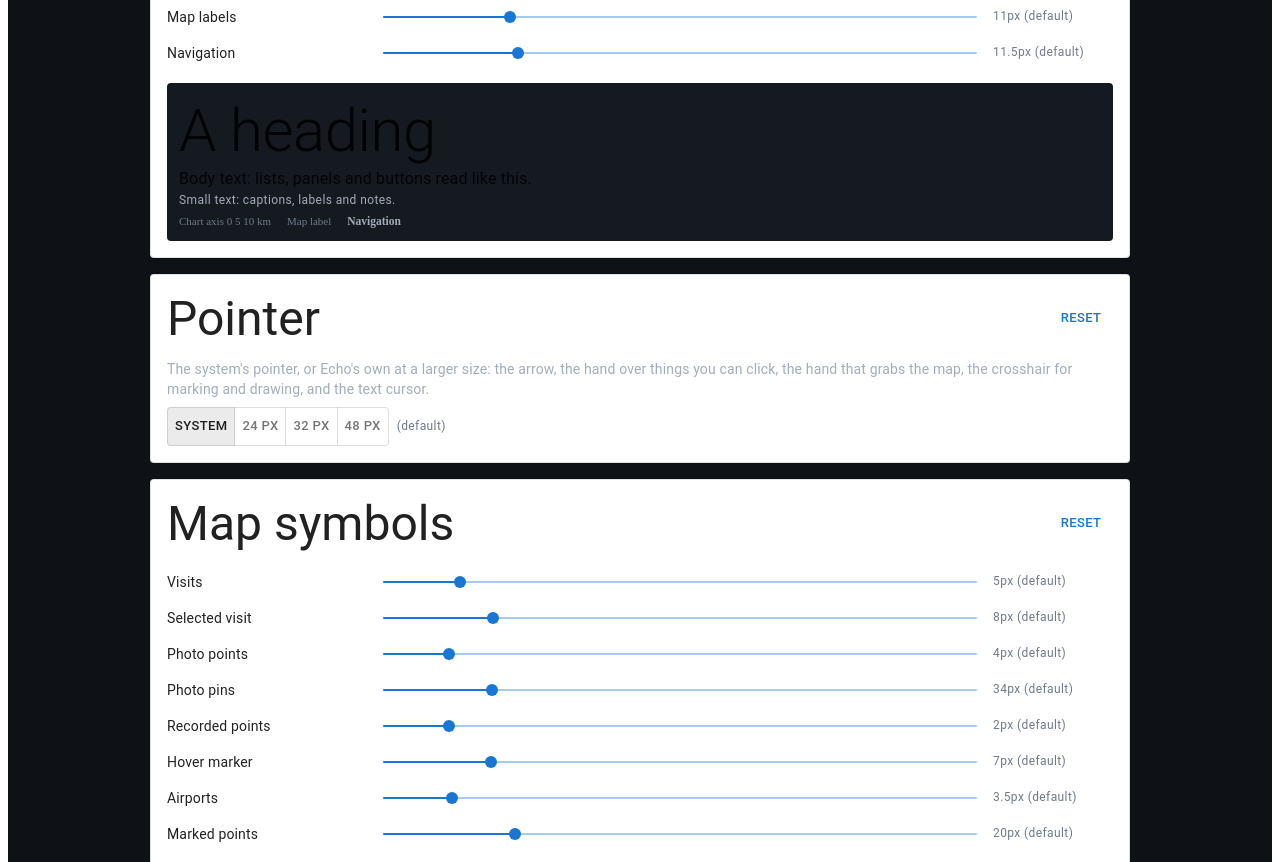
Test: the settings in effect › keep a change in the browser when saving fails, and say so
This screenshot has width=1280, height=862.
(page scrolled)
Click the button "24 px": (260, 426) 234,407 -> 286,446
Wait 600 ms
(page scrolled)
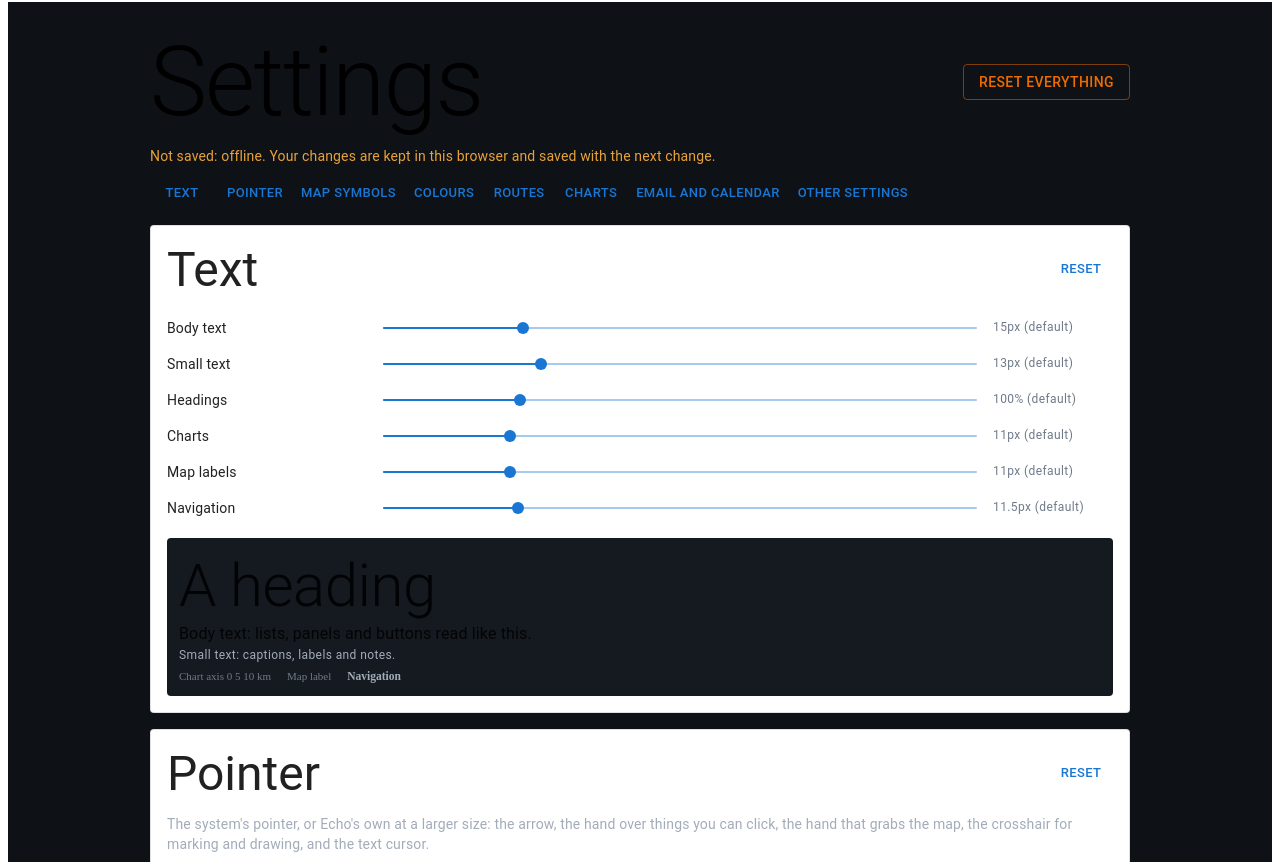
Now the text "Not saved: offline" is shown, box 150,148 -> 716,164
